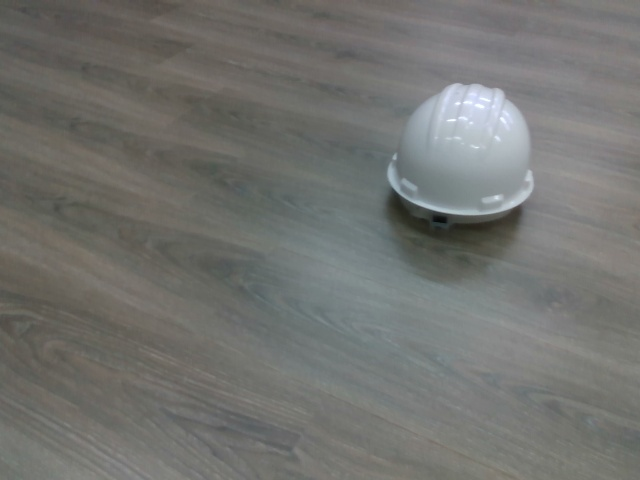helmet: (384, 80, 538, 229)
